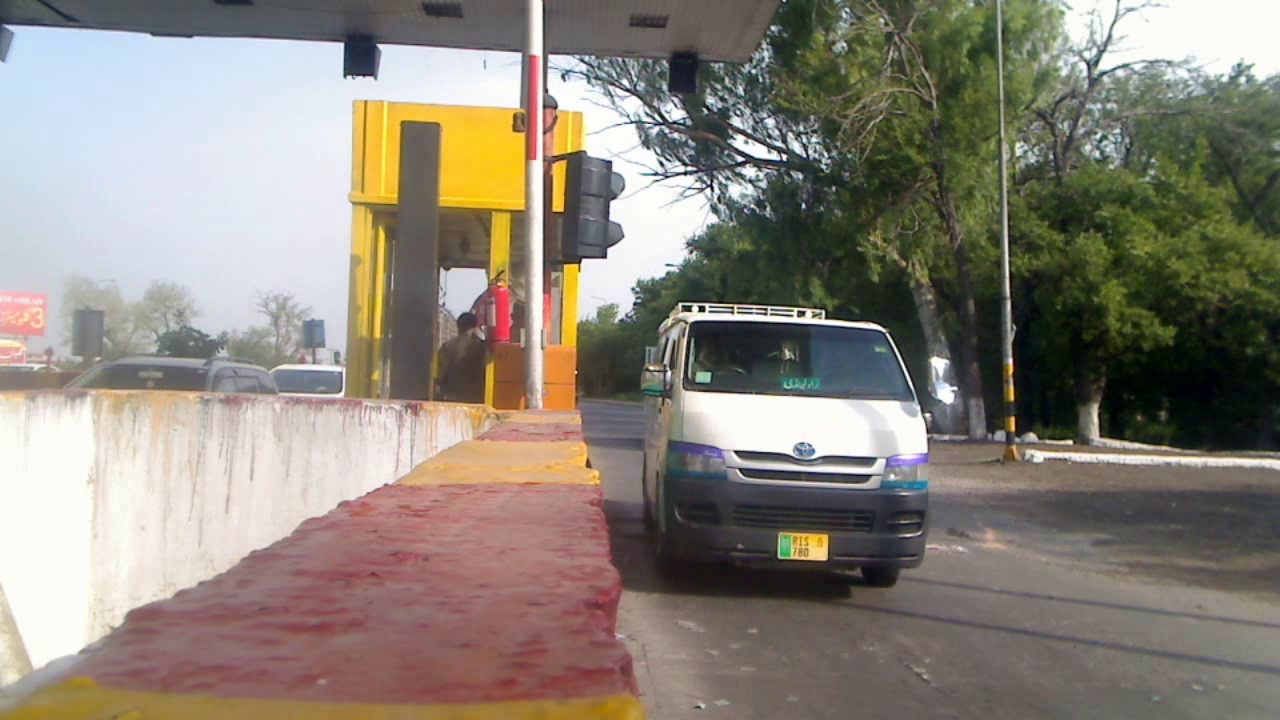Number Plate (Car): (780, 533, 826, 557)
